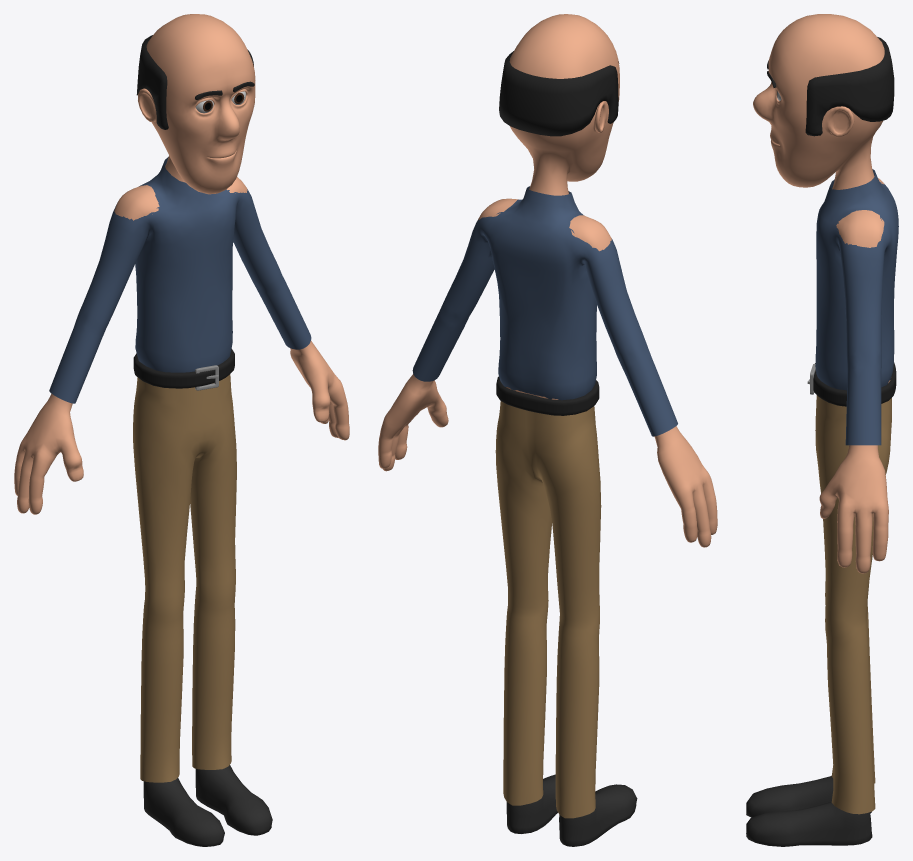
The picture shows the model from 3 angles, left to right: view 1: azimuth 30°, elevation 25°; view 2: azimuth 150°, elevation 25°; view 3: azimuth 270°, elevation 25°; orthographic projection.
Parts seen in each view (by area): view 1: Head.001_Cube.005, Head_Cube.001, Head.002_Cube.007, Head.003_Cube.008, Hair_Cube.004; view 2: Head.001_Cube.005, Head.002_Cube.007, Head_Cube.001, Hair_Cube.004, Head.003_Cube.008; view 3: Head_Cube.001, Head.002_Cube.007, Head.001_Cube.005, Hair_Cube.004, Head.003_Cube.008.
Part boxes in pixels (<box>): Head.001_Cube.005: <box>133,374,236,782</box>; Head_Cube.001: <box>14,14,349,846</box>; Head.002_Cube.007: <box>49,157,311,403</box>; Head.003_Cube.008: <box>133,349,234,390</box>; Hair_Cube.004: <box>136,35,253,129</box>; Head.001_Cube.005: <box>495,401,601,818</box>; Head.002_Cube.007: <box>412,186,677,436</box>; Head_Cube.001: <box>378,14,717,846</box>; Hair_Cube.004: <box>499,51,618,136</box>; Head.003_Cube.008: <box>496,376,599,415</box>; Head_Cube.001: <box>746,14,890,846</box>; Head.002_Cube.007: <box>815,169,898,445</box>; Head.001_Cube.005: <box>815,395,891,814</box>; Hair_Cube.004: <box>805,37,894,136</box>; Head.003_Cube.008: <box>807,362,896,406</box>.
Size of the model in its own units: 2.96 by 6.93 by 1.19.
